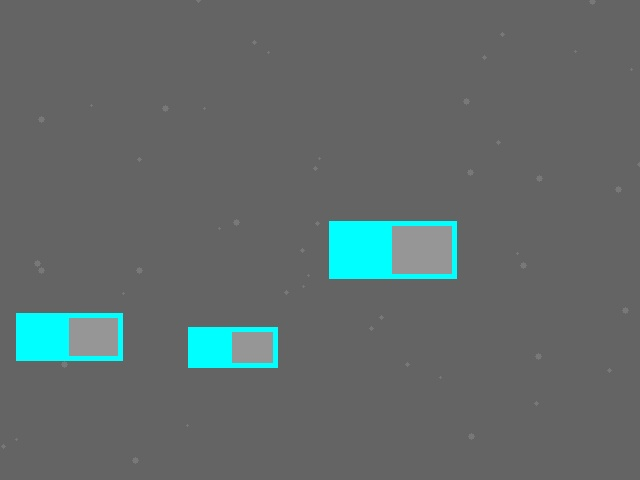truck: (329, 221, 456, 278), (16, 313, 122, 360), (188, 327, 277, 367)
